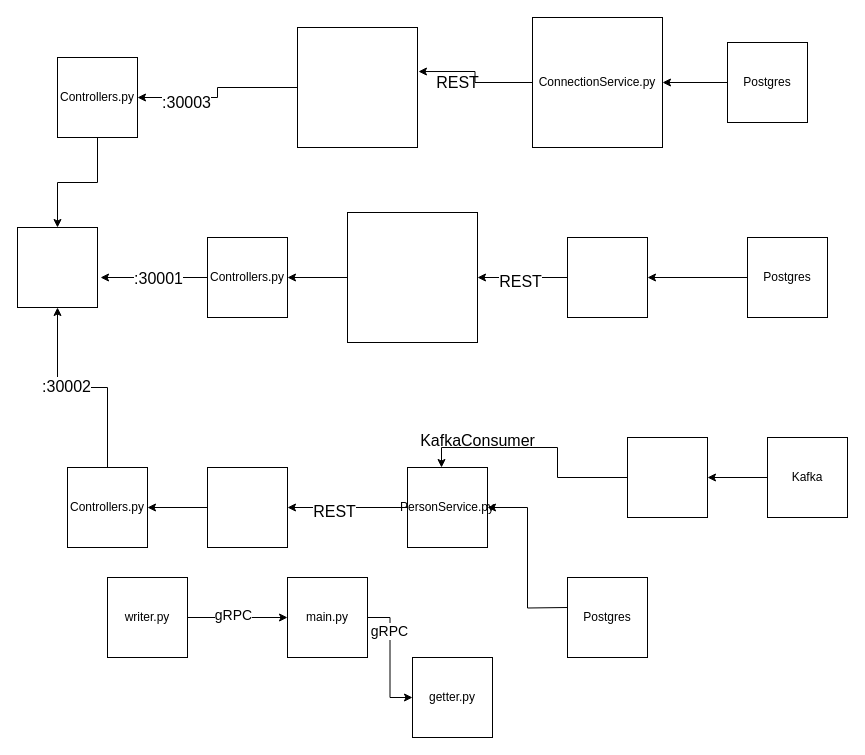
This 865x755 diagram has some shape labels left out. The shapes that lost their labels are listed below. From the top down, each one's centre as x and y in pixels, then its label:
At point 357,87: "ConnectionDataResource.py".
At point 57,267: "Udaconnect-app".
At point 412,277: "LocationResource.py".
At point 607,277: "LocationService.py".
At point 667,477: "ConsumerService.py".
At point 247,507: "PersonResource.py".
